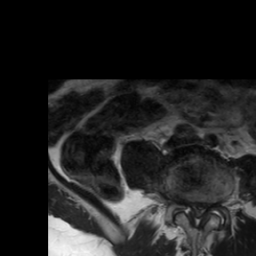CCS_normal: (194, 197, 200, 231)
LFS_severe_stenosis: (208, 194, 215, 215)
LLS_severe_stenosis: (200, 196, 208, 220)
RFS_severe_stenosis: (179, 190, 187, 215)
RLS_severe_stenosis: (187, 195, 194, 218)
